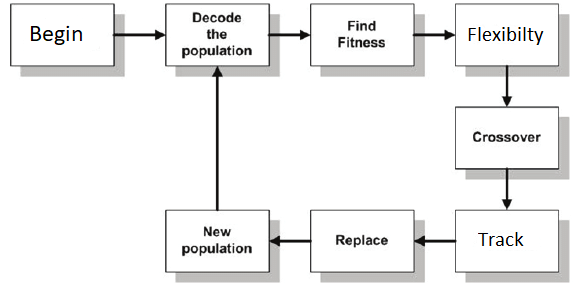arrow: (209, 64, 223, 210), (113, 28, 166, 41), (415, 234, 456, 249), (271, 233, 311, 248), (500, 166, 513, 209), (268, 29, 311, 41), (413, 29, 456, 41), (502, 66, 514, 105)
process: (453, 105, 562, 171), (453, 2, 562, 67), (454, 208, 561, 274), (164, 2, 272, 67), (9, 1, 116, 66), (309, 2, 416, 67), (162, 210, 270, 274), (309, 209, 415, 274)
text: (181, 11, 252, 57), (181, 224, 253, 256), (465, 23, 545, 46), (337, 18, 387, 50), (29, 24, 84, 45), (472, 129, 542, 145), (478, 228, 525, 248), (334, 234, 389, 247)
